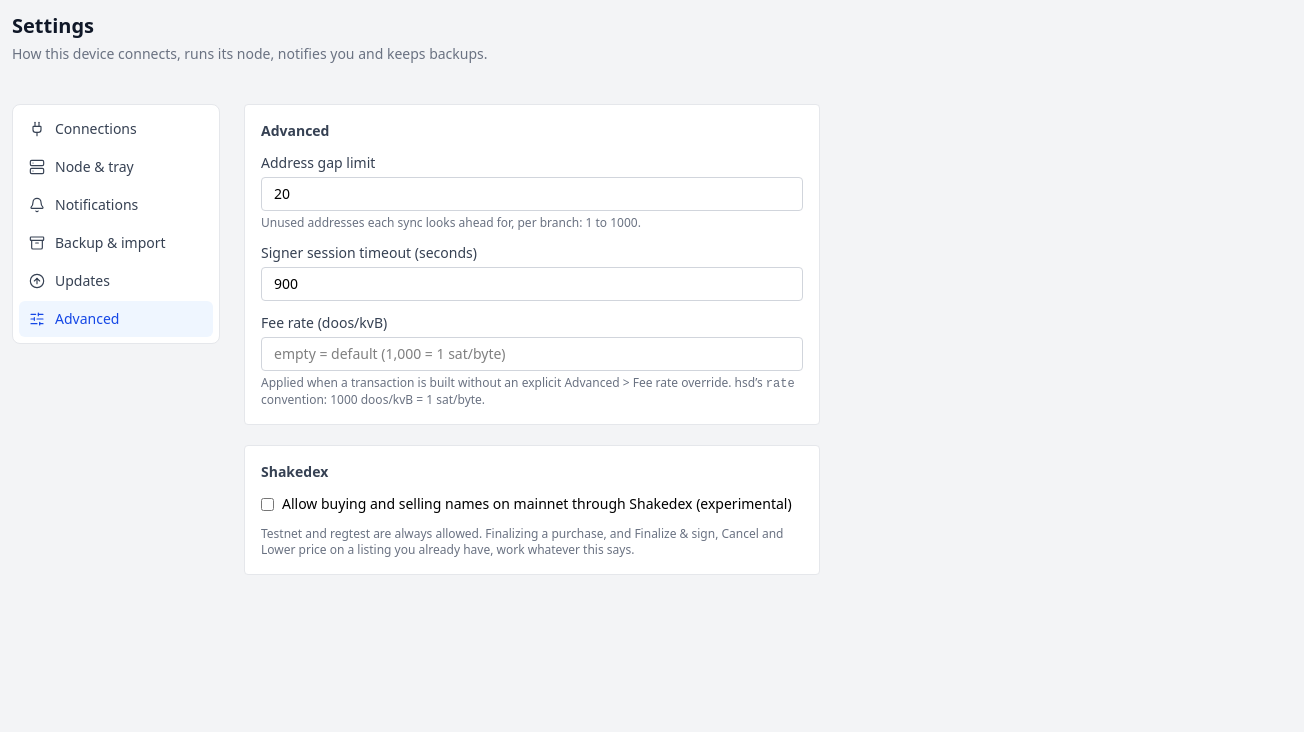
Test case: Settings — Address gap limit › refuses abc with the range and disables Save
The width and height of the screenshot is (1304, 732).
Type "abc" into the field with test id "settings-gap-limit".
click(532, 194); type("abc")  # box [261,177,803,211]
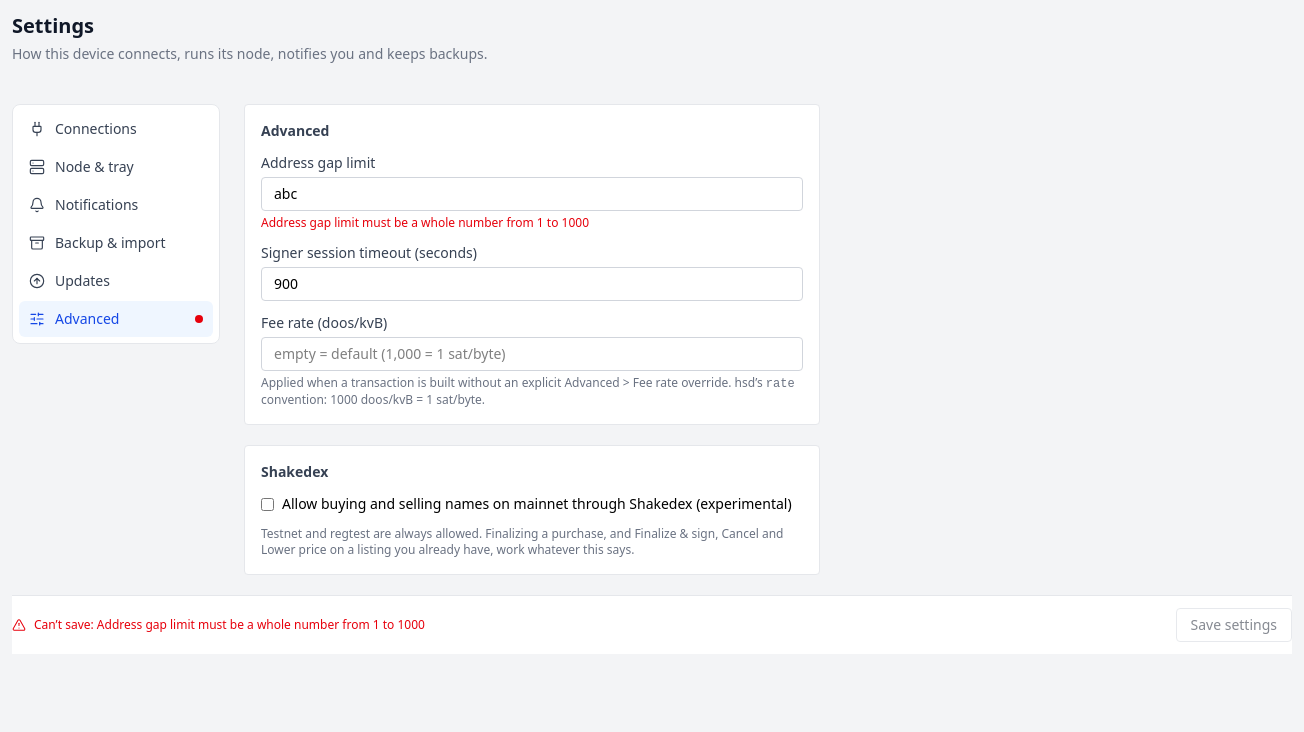
Now the text "Address gap limit must be a whole number from 1 to 1000" is shown, box [261,214,589,231]
Now the button with test id "settings-save" is disabled, box [1176,608,1292,642]
